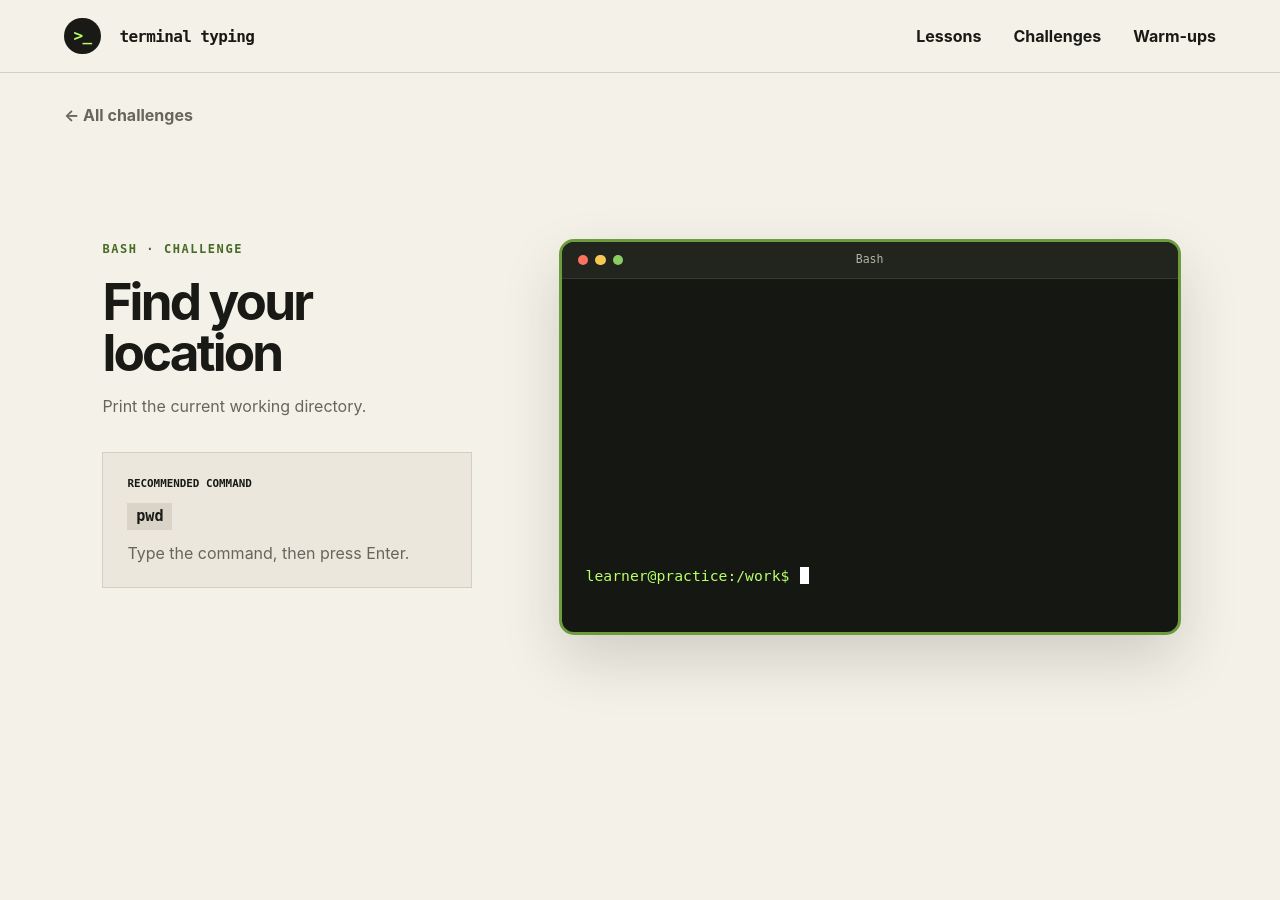
Scenario: application navigation › completes a specifically selected challenge and retains its progress
The width and height of the screenshot is (1280, 900).
Type "pwd" into the field named "Bash input buffer" at (977, 576), box top-left (800, 559), bottom-right (1154, 593)
Then press Enter
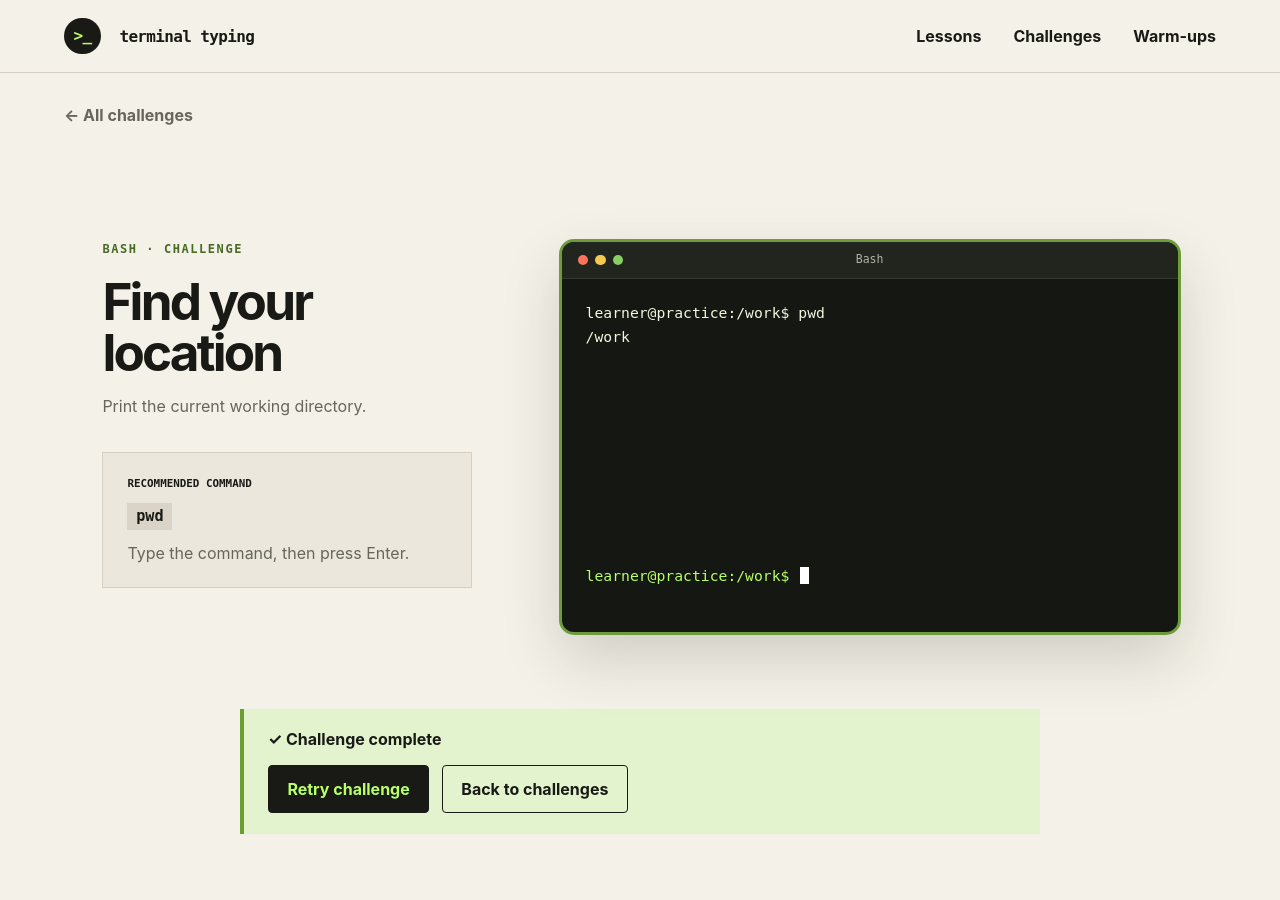
Result: the text "✓ Challenge complete" is shown at top-left (268, 729), bottom-right (442, 749)
